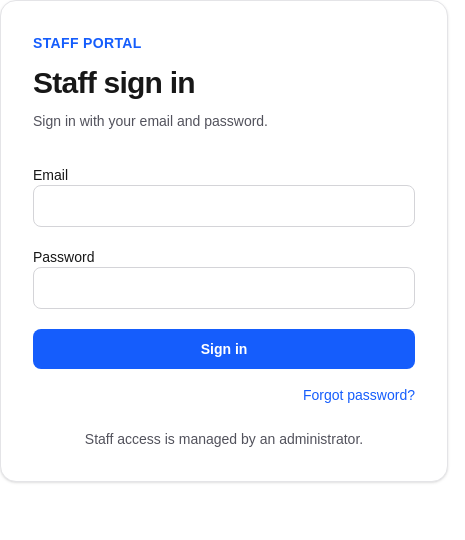
Test: sign-in error reporting › handles auth/network-request-failed without changing the form's recovery
Type "staff@example.com" into the field labelled "Email" at (224, 206), box 33,185 -> 415,227
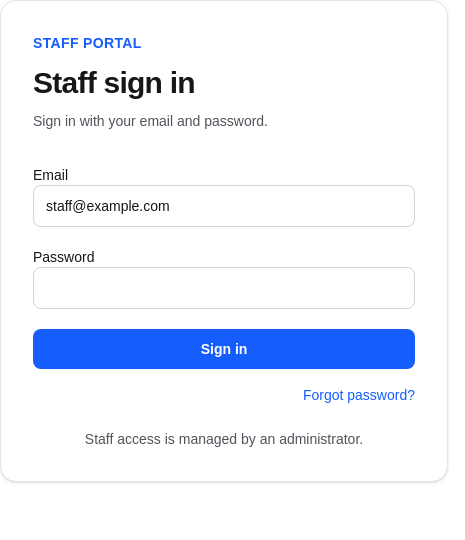
Type "password" into the password field labelled "Password" at (224, 288), box 33,267 -> 415,309
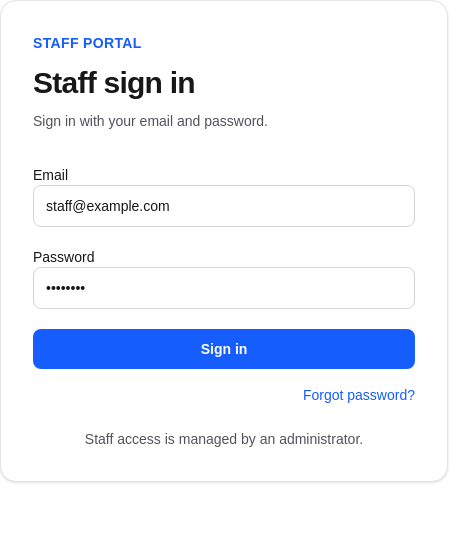
Click the button "Sign in" at (224, 349), box 33,329 -> 415,369
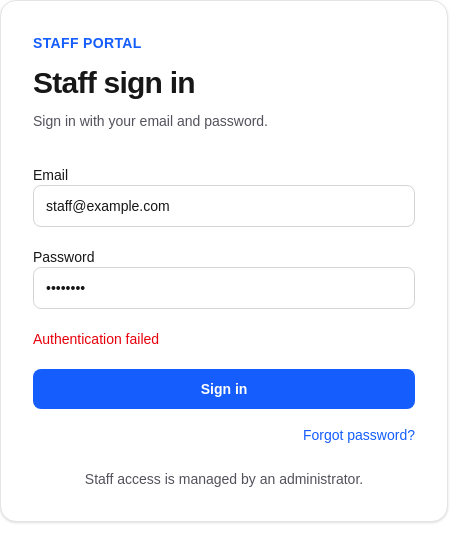
Expected: the button "Sign in" is enabled, 33,369 -> 415,409
Expected: the text "Authentication failed" is shown, 33,331 -> 159,347
